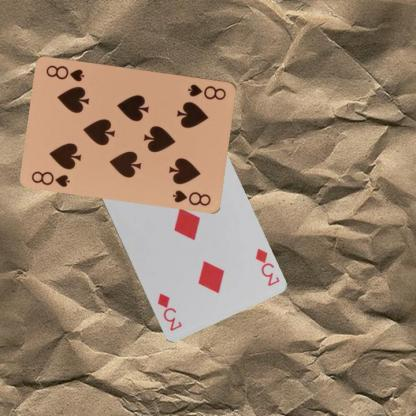3d: (252, 246, 280, 287)
8s: (29, 168, 72, 188), (186, 82, 228, 101)
